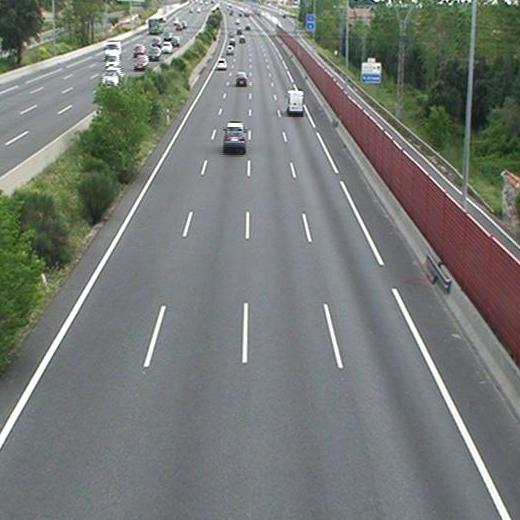car: (223, 122, 245, 148), (236, 72, 247, 85), (216, 58, 226, 69)
van: (289, 90, 304, 113)
